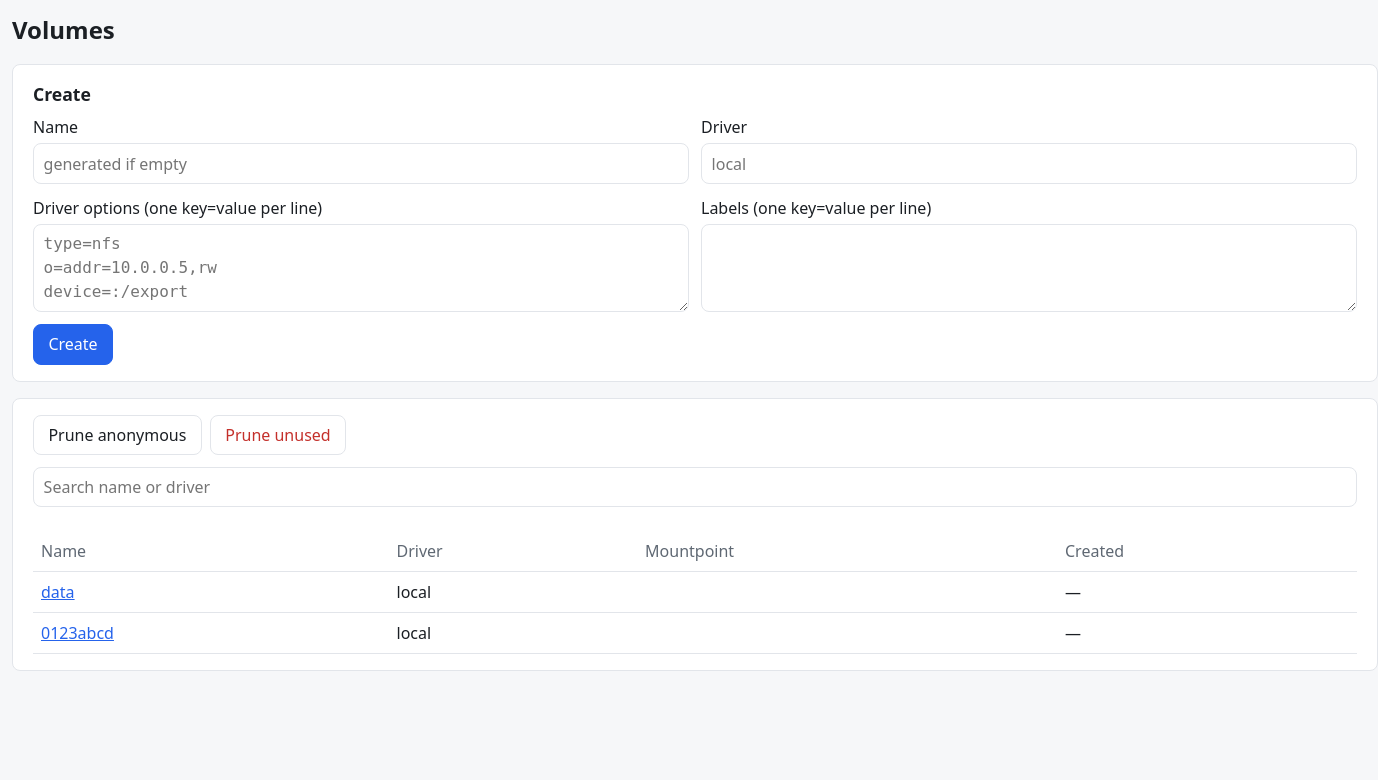
Scenario: VolumesView › prunes anonymous volumes and reloads the list
Click the button "Prune anonymous". click: coordinates (117, 435)
box: [33,414,202,455]
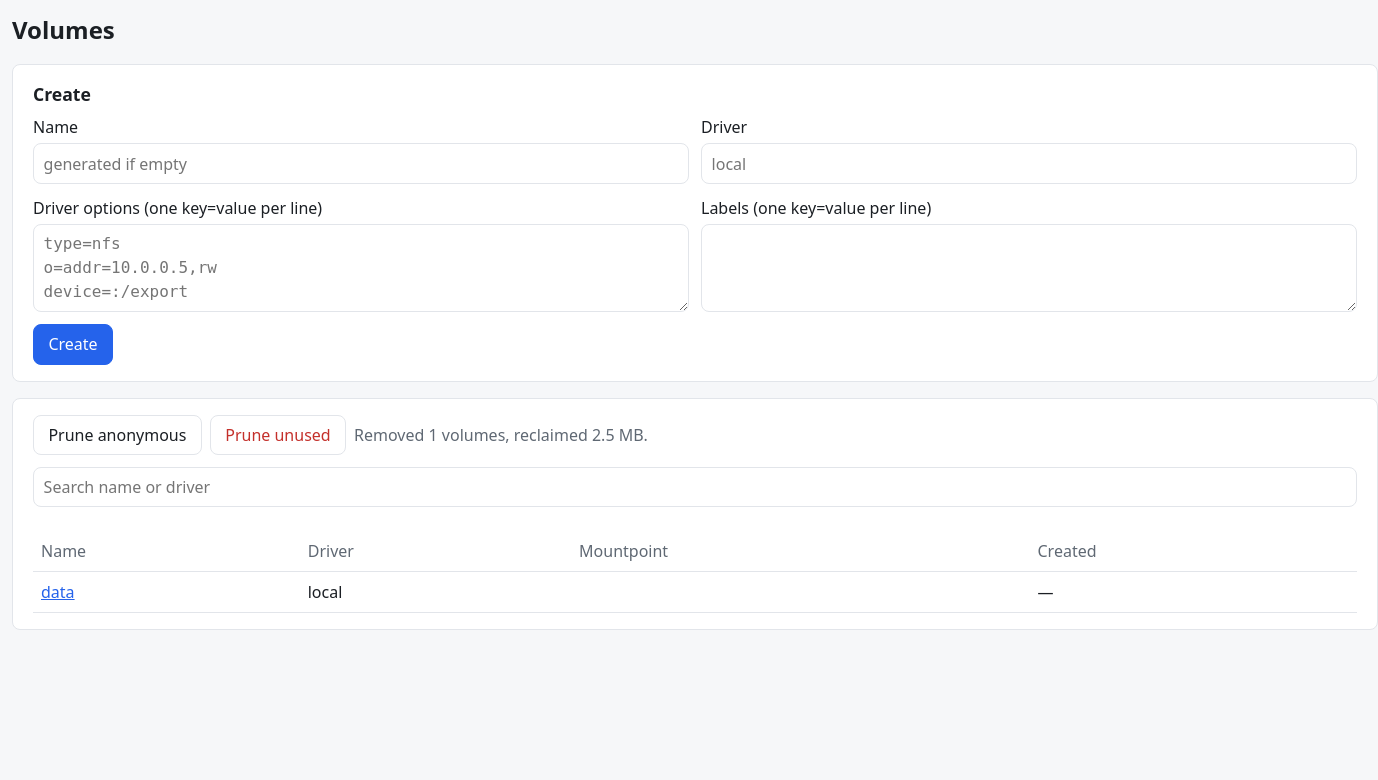
Check: the message "Removed 1 volumes, reclaimed 2.5 MB." is shown, box [354,423,648,447]
